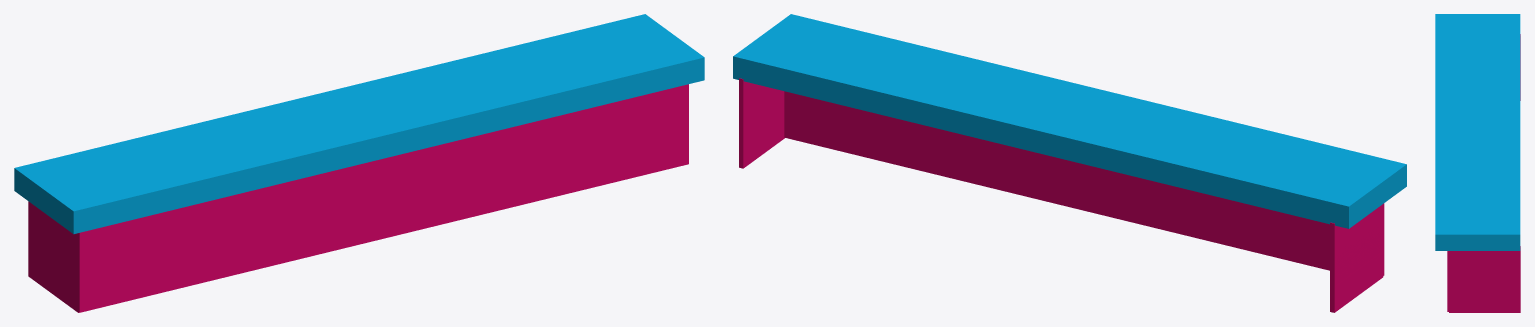
The model's file is Wood_Stairs_03.fbx.
3 views of the same model, side by side, from view 1: azimuth 30°, elevation 25°; view 2: azimuth 150°, elevation 25°; view 3: azimuth 270°, elevation 25° (orthographic). The views are drawn at different scales.
Visible parts, largest first — view 1: Wood_Stairs_03; view 2: Wood_Stairs_03; view 3: Wood_Stairs_03.
Boxes of the visible parts, x1,y1,x2,y2 form: Wood_Stairs_03: (14, 14, 704, 312); Wood_Stairs_03: (733, 14, 1406, 312); Wood_Stairs_03: (1435, 14, 1520, 312).
Size of the model in its own units: 179 by 30.35 by 29.26.
